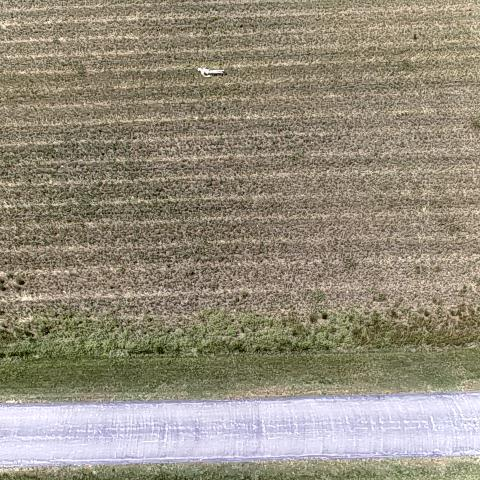person: (194, 64, 226, 79)
